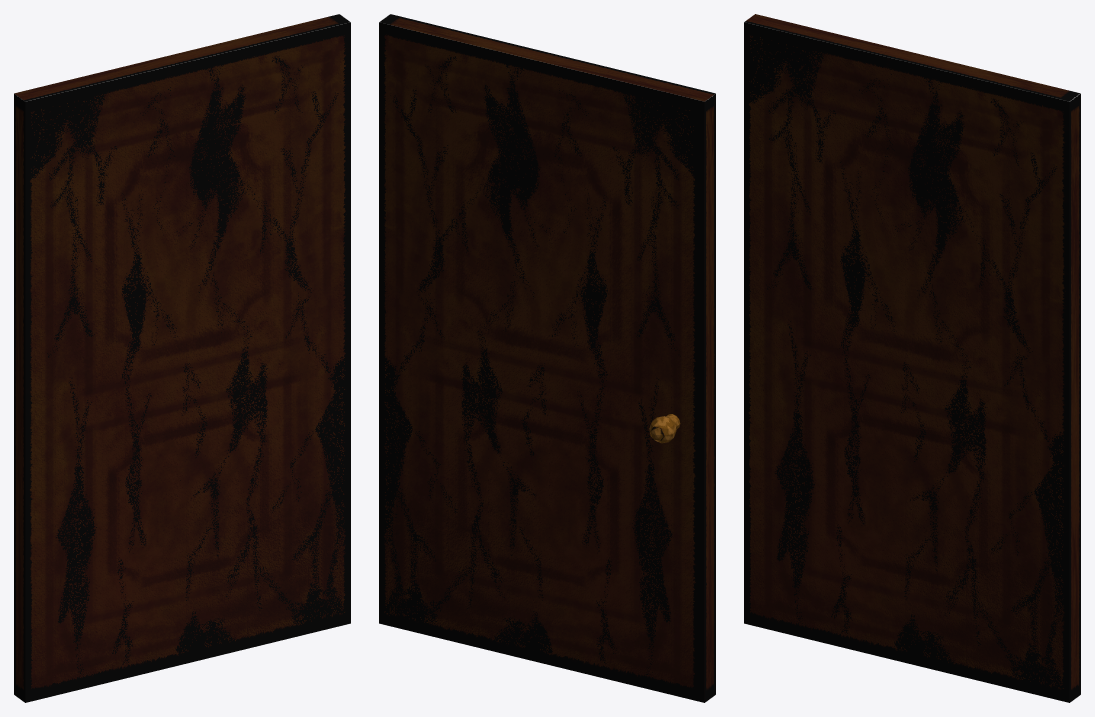
File: Door.fbx
3 views of the same model, side by side, from view 1: azimuth 30°, elevation 25°; view 2: azimuth 150°, elevation 25°; view 3: azimuth 330°, elevation 25° (orthographic).
Visible parts, largest first — view 1: Door.002; view 2: Door.002; view 3: Door.002.
Boxes of the visible parts, x1,y1,x2,y2 form: Door.002: [14, 14, 350, 702]; Door.002: [379, 14, 715, 702]; Door.002: [744, 14, 1080, 702].
Size of the model in its own units: 151 by 266 by 22.83.
1 material, 1 textured.
